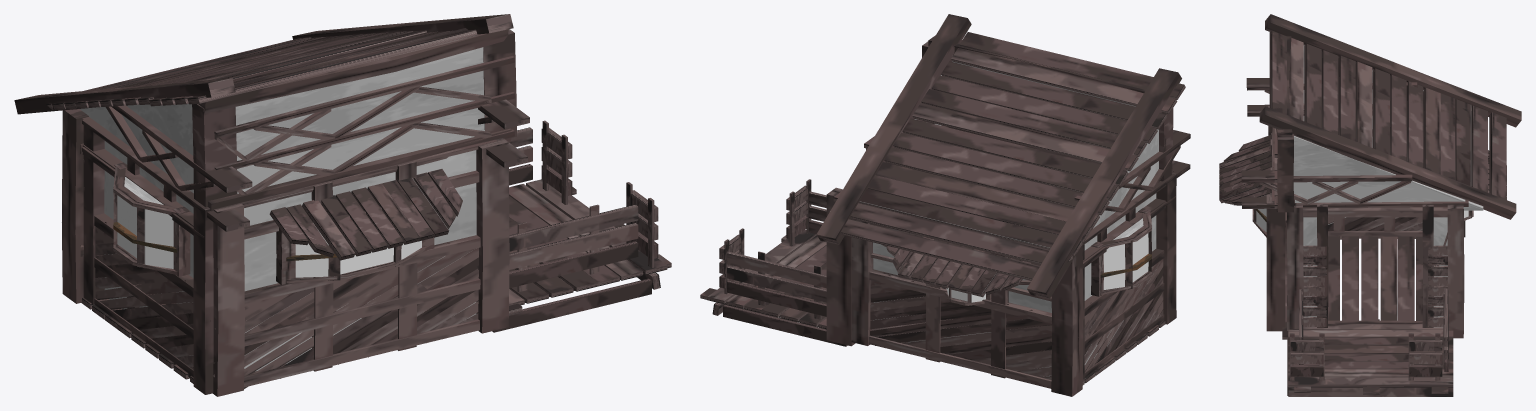
Rendered from cabin-col.glb.
3 views of the same model, side by side, from view 1: azimuth 30°, elevation 25°; view 2: azimuth 150°, elevation 25°; view 3: azimuth 270°, elevation 25° (orthographic). The views are drawn at different scales.
Parts seen in each view (by area): view 1: cabin-col; view 2: cabin-col; view 3: cabin-col.
Boxes of the visible parts, x1,y1,x2,y2 form: cabin-col: (14,14,671,396); cabin-col: (700,14,1190,396); cabin-col: (1219,14,1521,396).
Size of the model in its own units: 8.48 by 5.3 by 6.36.
1 material, 1 textured.
